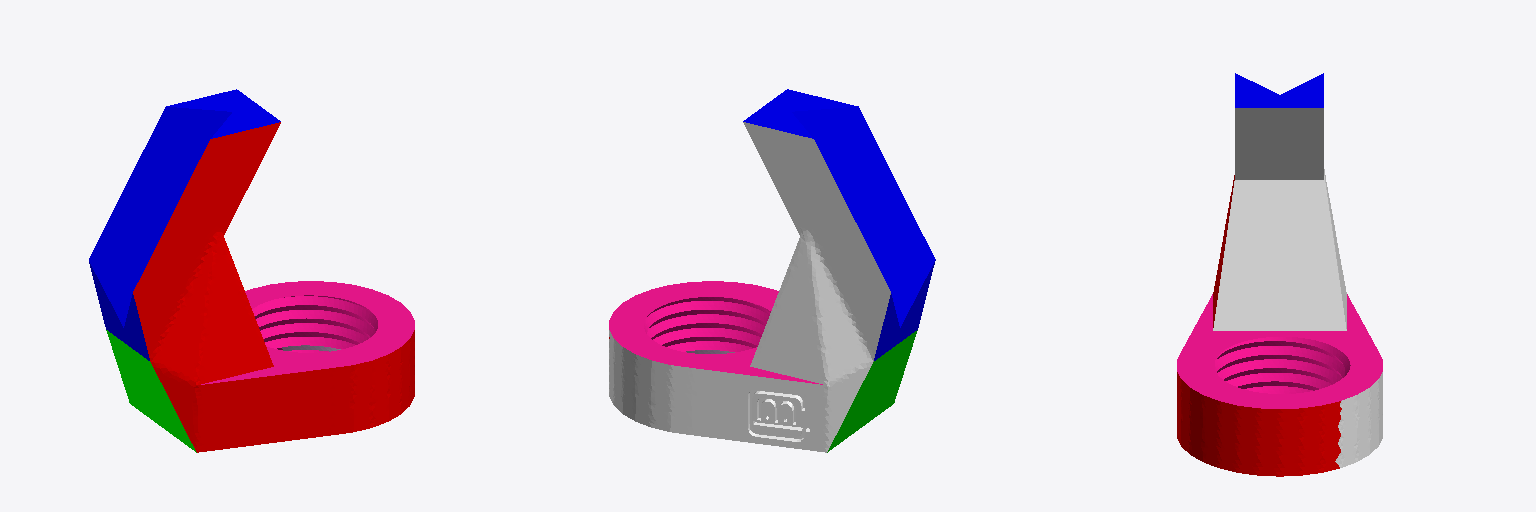
File: model_24155_segmented.obj
3 renders of one model, left to right at view 1: azimuth 30°, elevation 25°; view 2: azimuth 150°, elevation 25°; view 3: azimuth 270°, elevation 25°, orthographic.
Bounding box in the file's own units: 45.19 × 44.5 × 27.85.